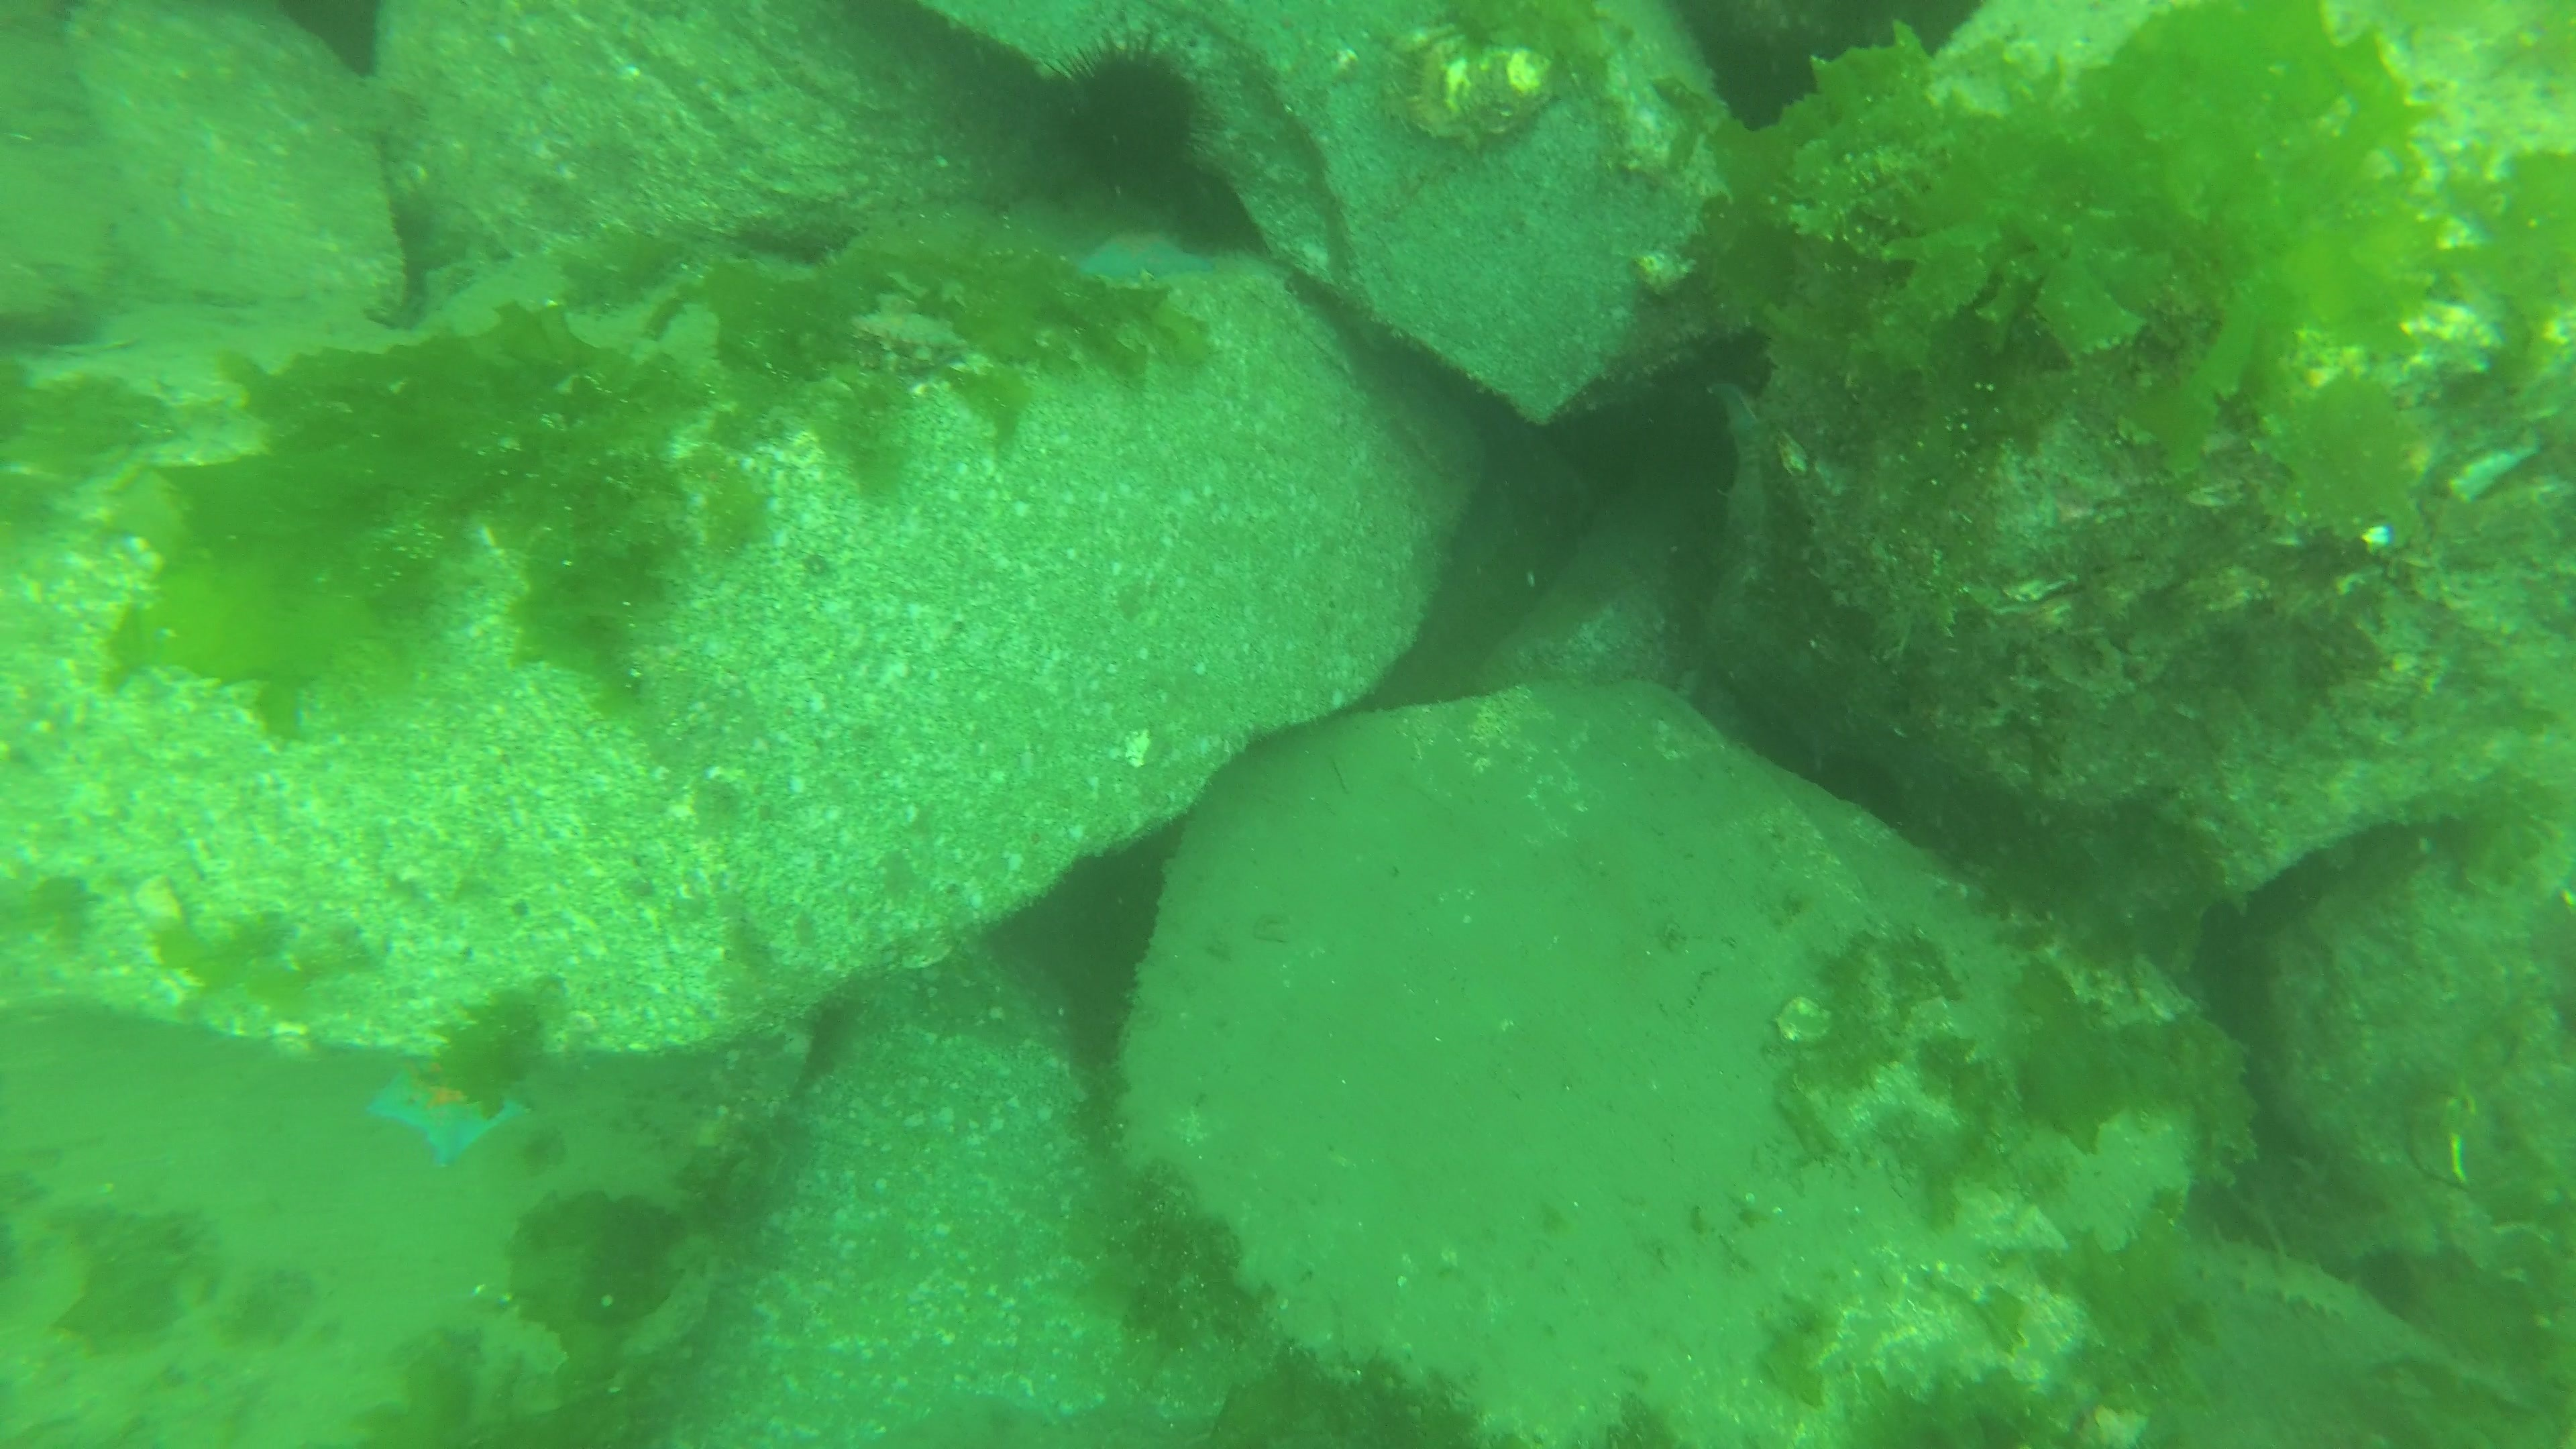echinus: (1047, 30, 1215, 207), (1161, 172, 1265, 253)
starfish: (363, 1062, 534, 1166), (1065, 223, 1233, 290)
